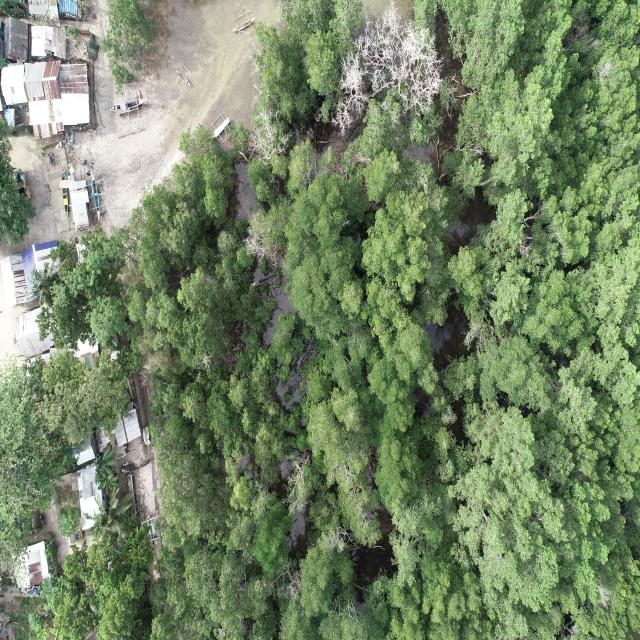Tree: (454, 405, 608, 640), (128, 126, 237, 298), (0, 356, 80, 574), (253, 0, 358, 145), (285, 174, 373, 341), (338, 2, 442, 141), (300, 387, 383, 553), (180, 376, 296, 493), (469, 65, 561, 196), (167, 226, 248, 371), (367, 192, 449, 330), (568, 64, 639, 200), (150, 418, 216, 554), (35, 355, 131, 448), (184, 547, 269, 639), (440, 0, 525, 89), (527, 269, 599, 366), (478, 336, 557, 420), (291, 533, 359, 622), (349, 88, 412, 168), (538, 183, 595, 269), (0, 112, 36, 248), (534, 2, 582, 104), (102, 2, 154, 94), (151, 547, 199, 640), (250, 495, 296, 585), (389, 501, 437, 587), (372, 435, 421, 519), (447, 242, 489, 338), (328, 573, 388, 640), (367, 349, 415, 432), (393, 319, 437, 398), (101, 569, 148, 640), (488, 261, 532, 336), (423, 568, 468, 640), (36, 304, 98, 354), (88, 486, 136, 547), (67, 246, 111, 308), (384, 578, 427, 640), (272, 311, 309, 382), (250, 198, 291, 262), (489, 187, 528, 254), (594, 2, 640, 52), (362, 148, 402, 204), (42, 345, 85, 395), (89, 297, 126, 350), (444, 350, 476, 410), (32, 252, 62, 314), (48, 588, 83, 640), (92, 441, 120, 494), (128, 522, 154, 574), (222, 513, 251, 557), (224, 474, 252, 516), (84, 543, 111, 586), (58, 505, 81, 537)
